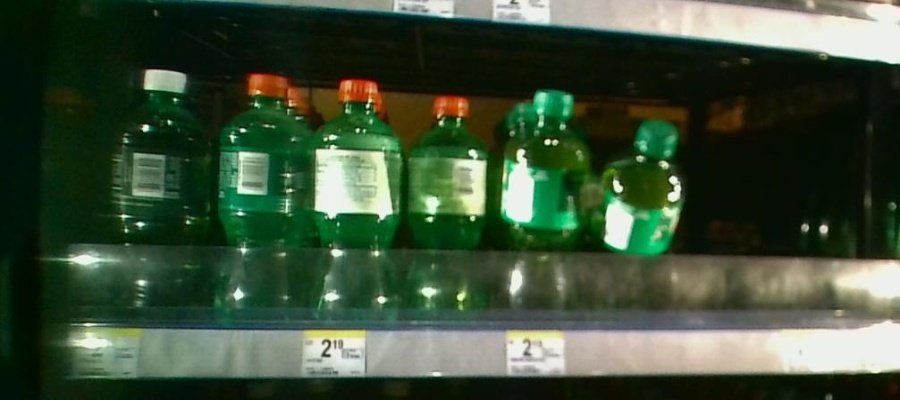bottle: (107, 53, 216, 322), (219, 64, 308, 323), (311, 71, 402, 322), (403, 81, 493, 316), (499, 89, 591, 314), (603, 107, 683, 293)
